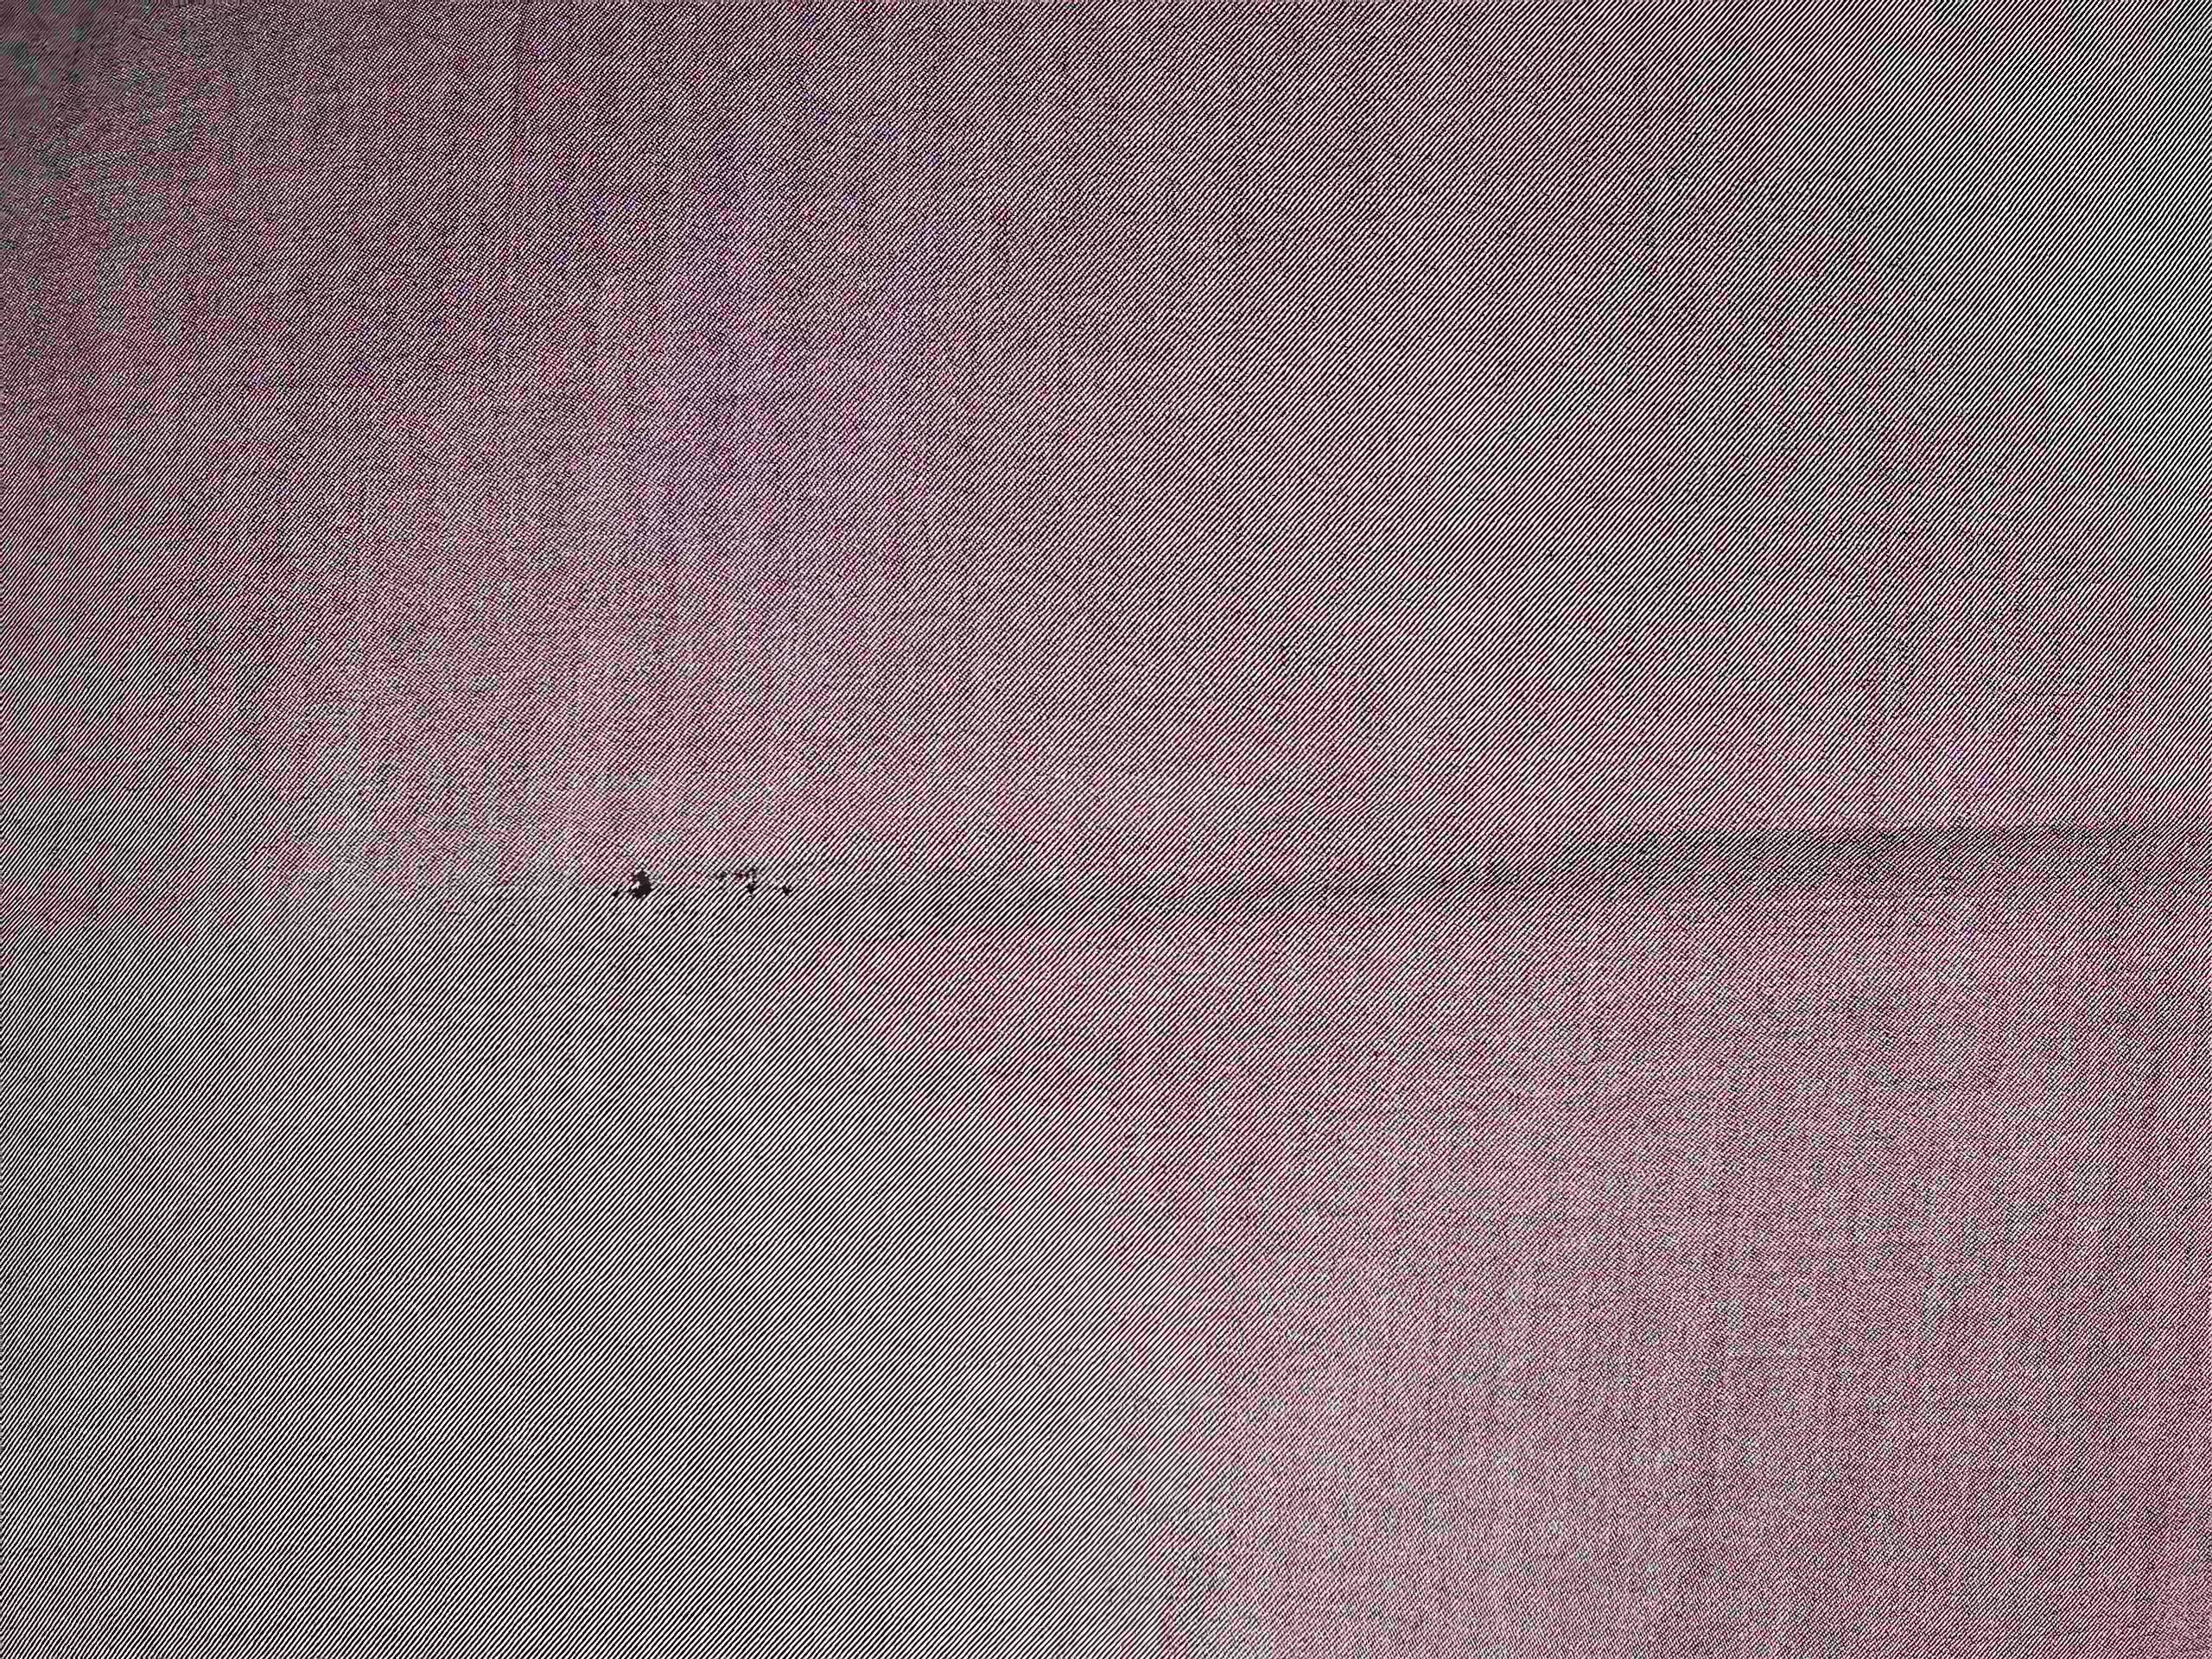rubbing-hole: (597, 856, 805, 913)
